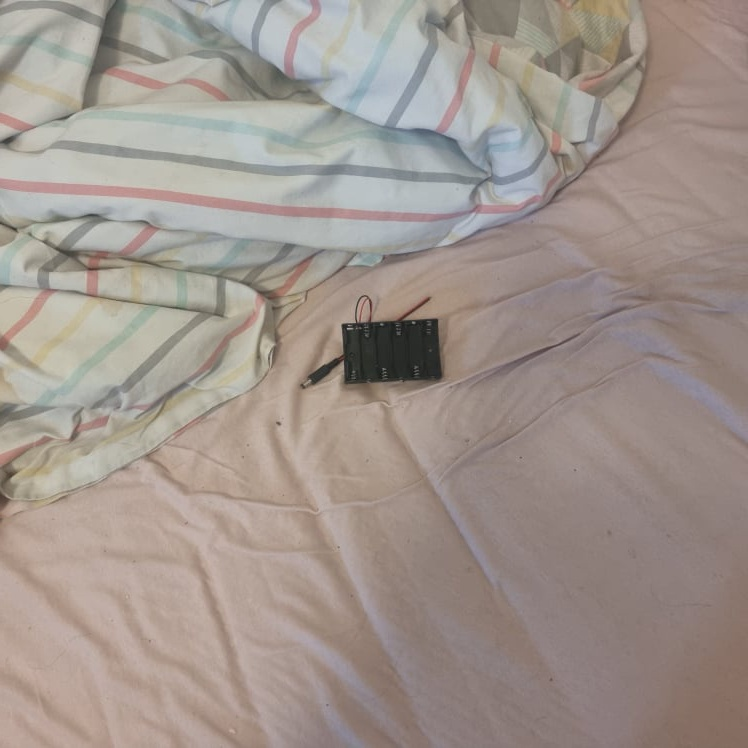BATTERY BOX: (340, 318, 445, 387)
